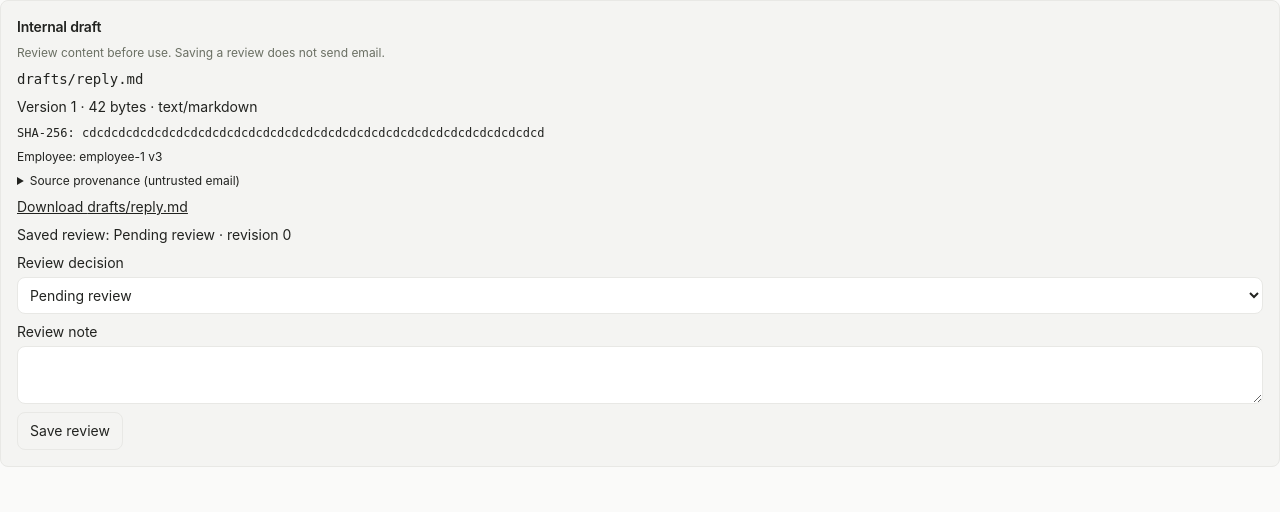
retained internal draft review › saves a human change request with its note and server revision
Expected: the text "Saved review: Pending review · revision 0" is shown, x1=17 y1=226 x2=291 y2=243
Select "Request changes" in the dropdown: (640, 296) x1=17 y1=277 x2=1263 y2=314
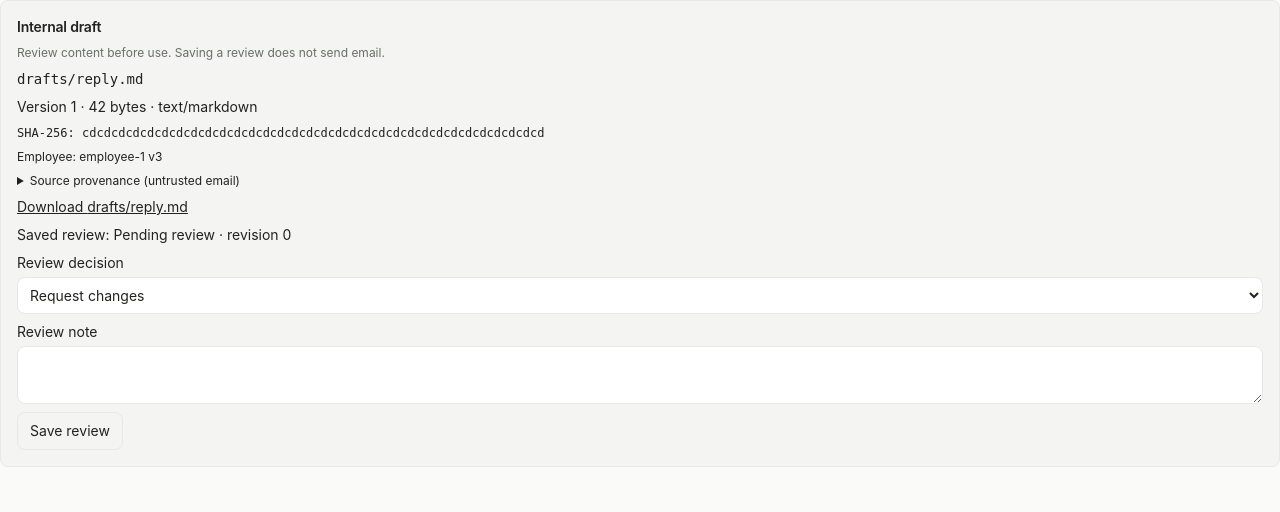
In the text box: (640, 375) x1=17 y1=346 x2=1263 y2=404, type "Add citations"
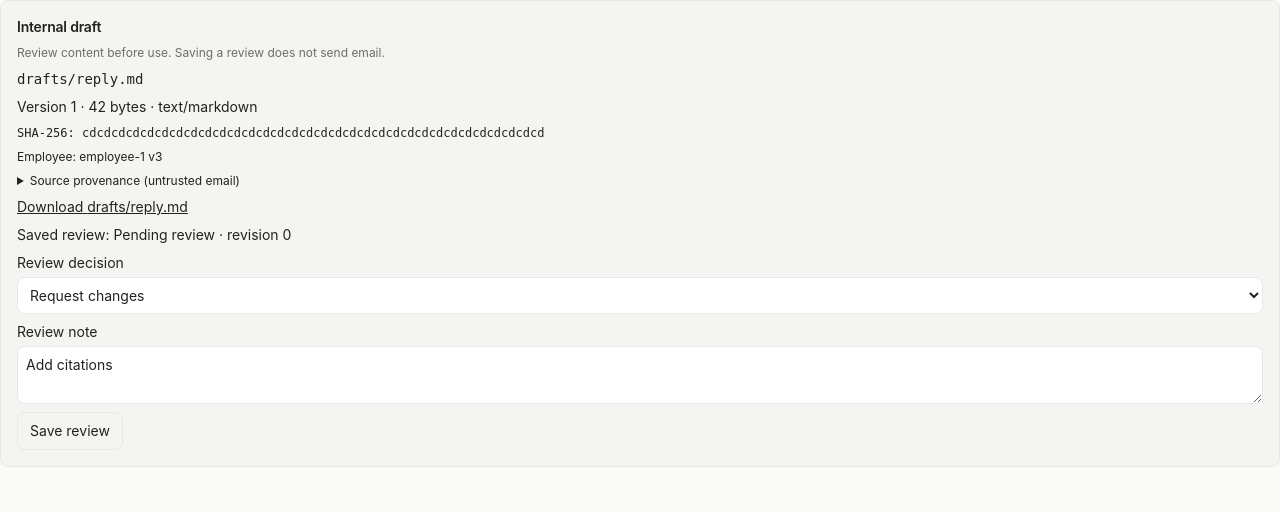
Click the button "Save review": (70, 431) x1=17 y1=412 x2=123 y2=450
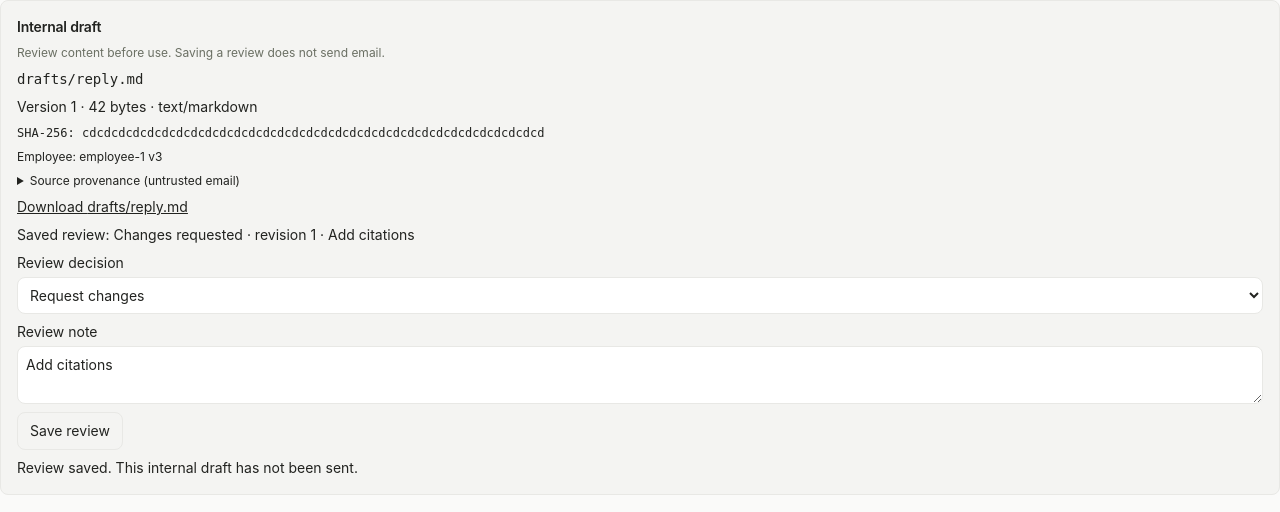
Result: the text "Saved review: Changes requested · revision 1 · Add citations" is shown at x1=17 y1=226 x2=415 y2=243
